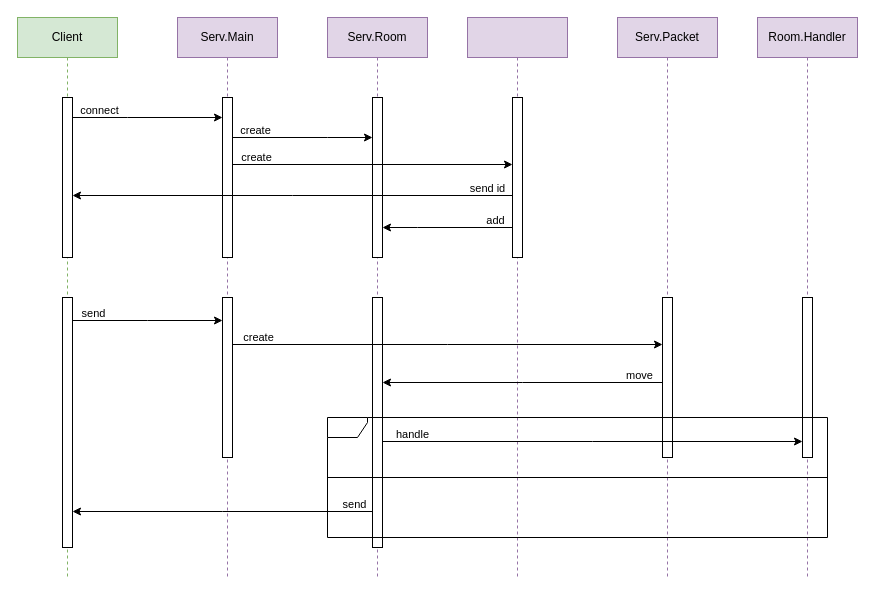
Image size: 875x595. Some labels were removed from this diagram. Each missing label, with the box of its shape:
alt: (326, 416, 828, 538)
Serv.Client: (466, 16, 568, 578)
